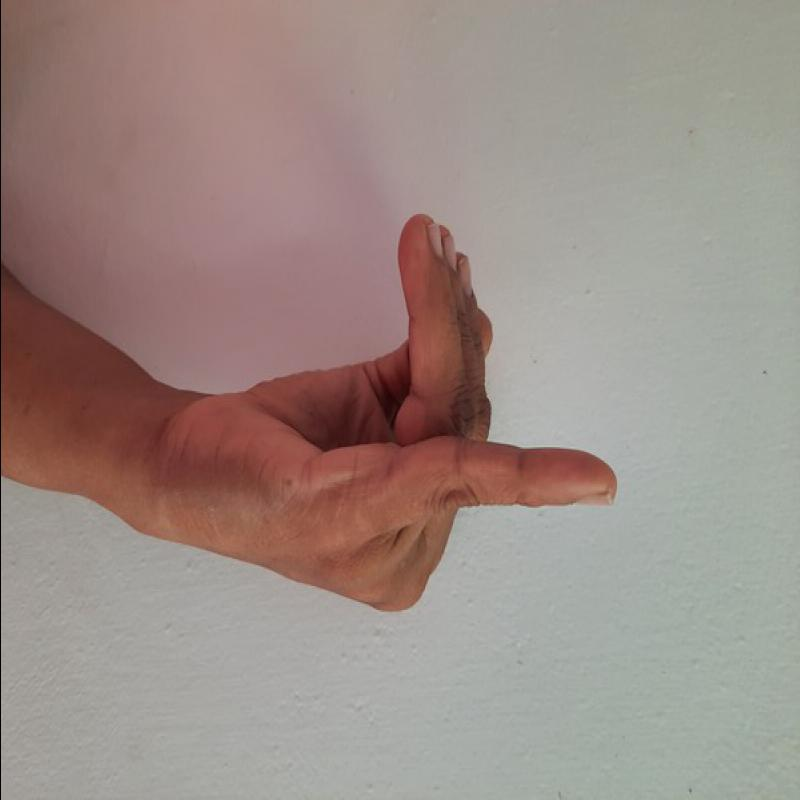Kartharee Mukham: (161, 192, 627, 623)
